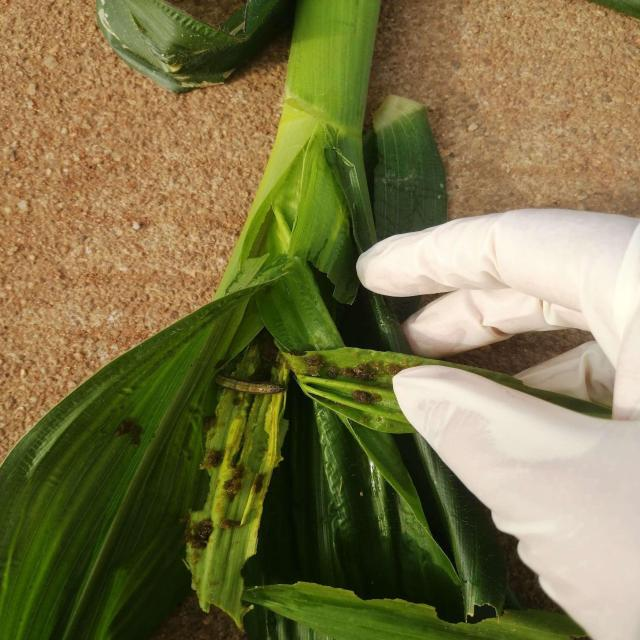pest: (216, 374, 285, 400)
